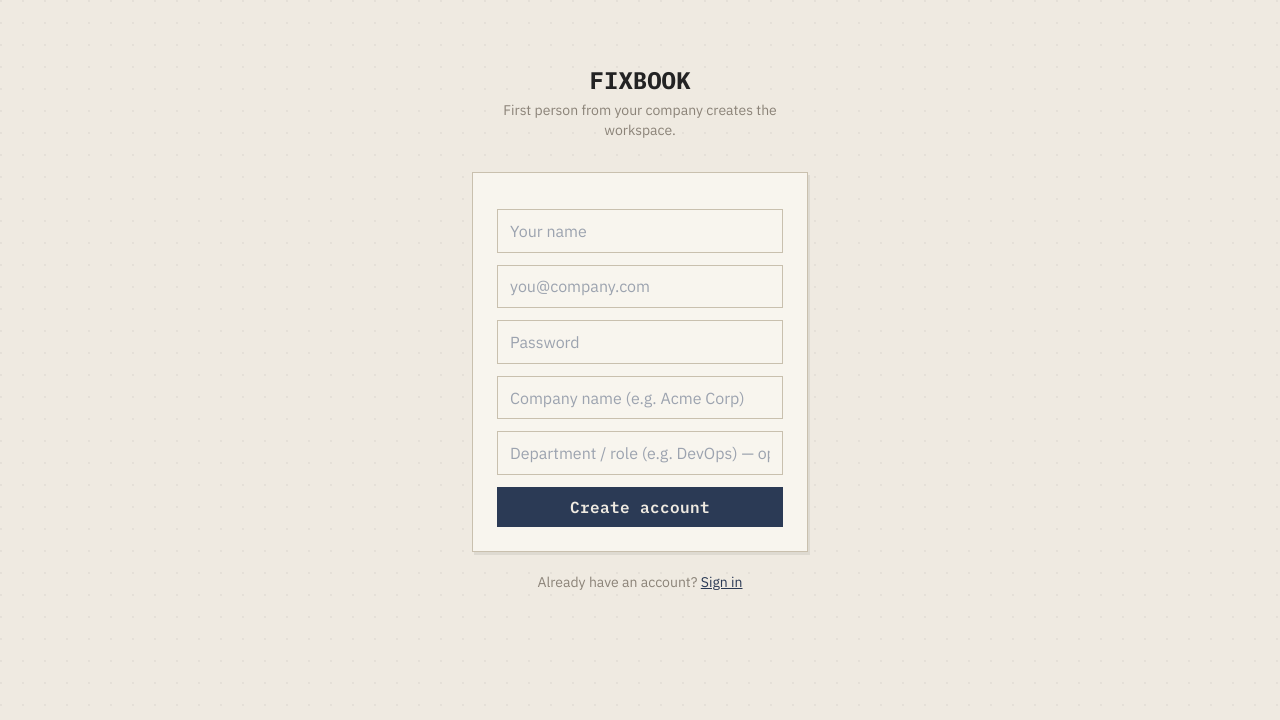
it: registration form › shows the registration error and stays on the form
The image size is (1280, 720).
Type "Test User" into the field labelled "Your name".
click(640, 231); type("Test User")  # box [497,209,783,253]
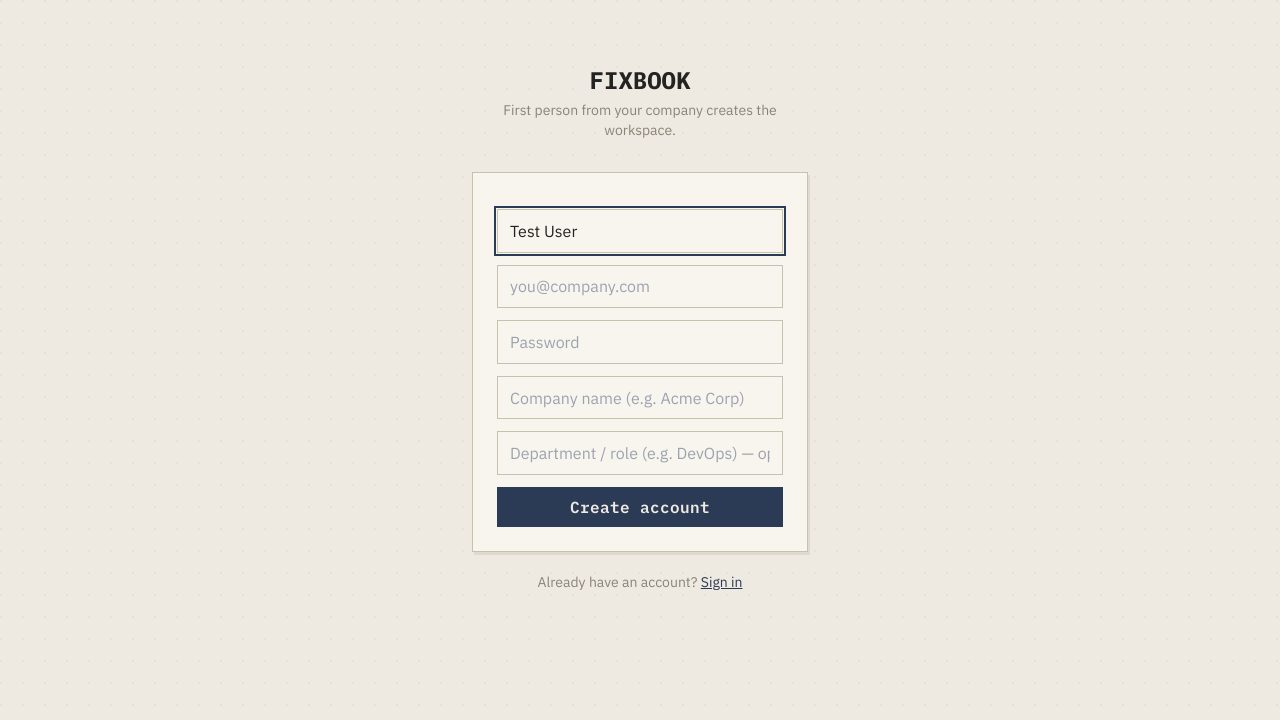
Type "dev@example.test" into the field named "Email address".
click(640, 286); type("dev@example.test")  # box [497,265,783,308]
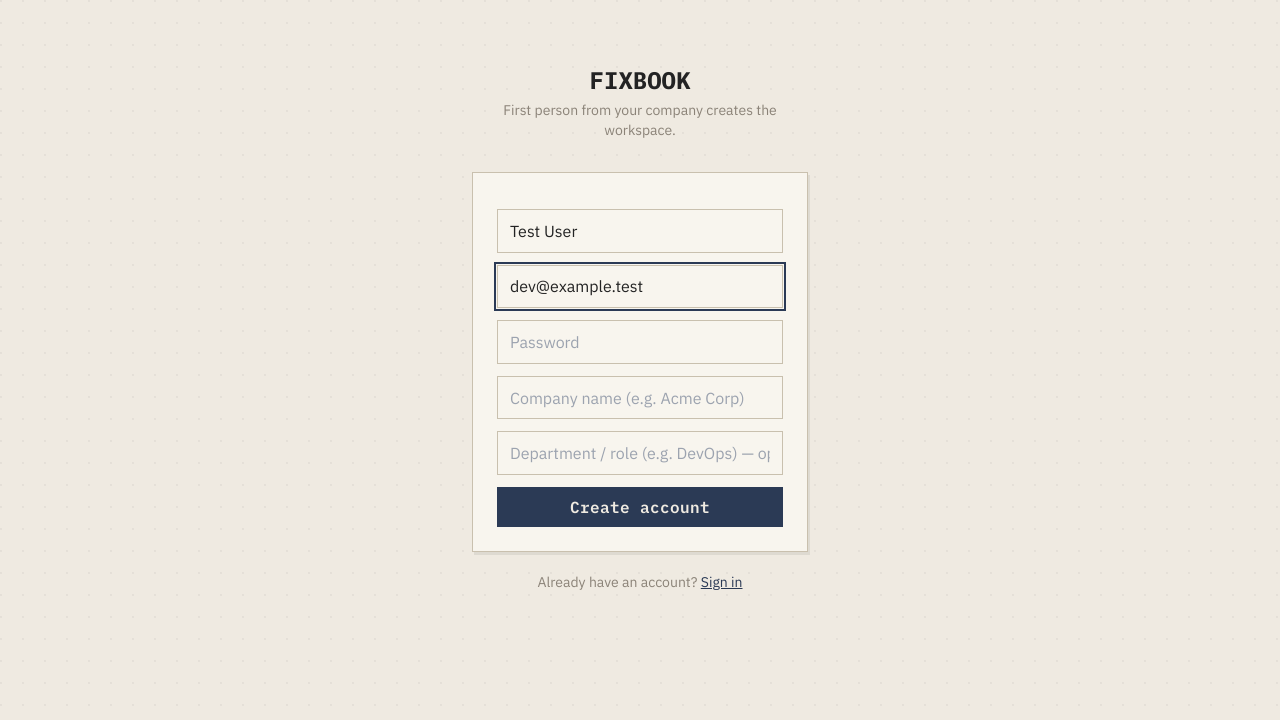
Type "fake-password" into the password field labelled "Password".
click(640, 342); type("fake-password")  # box [497,320,783,364]
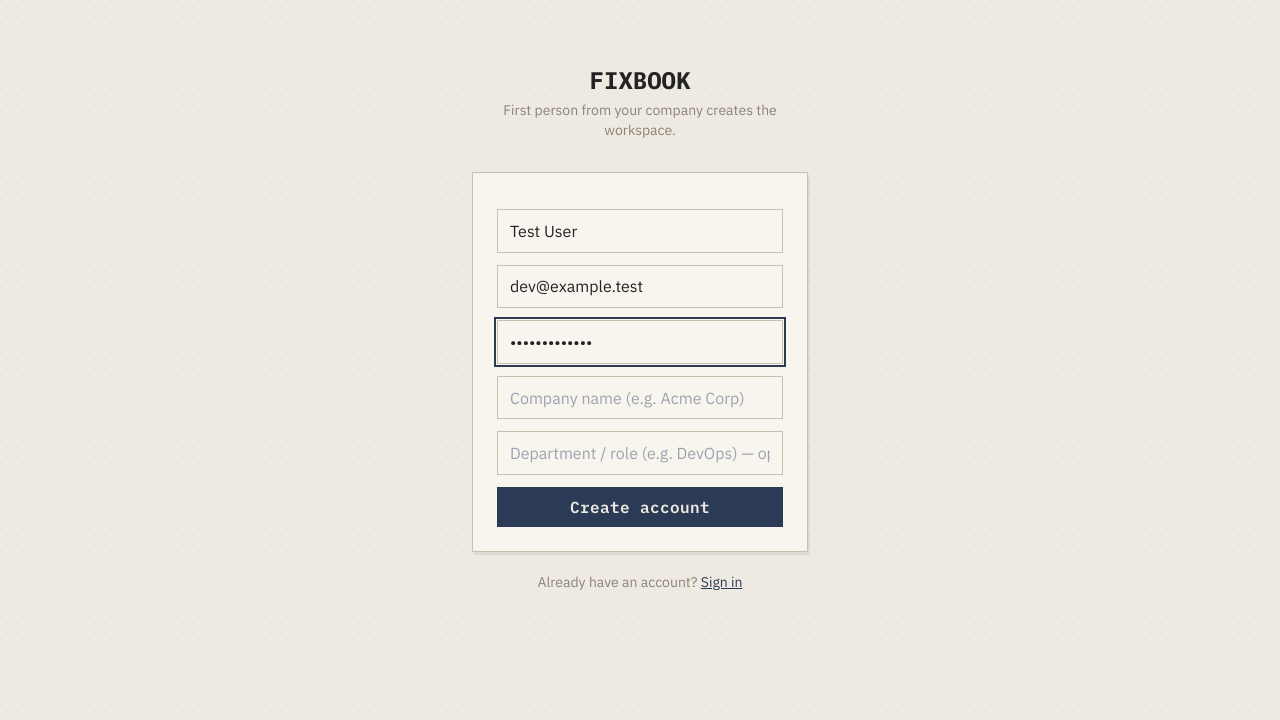
Type "Test Workspace" into the field labelled "Company name".
click(640, 398); type("Test Workspace")  # box [497,376,783,419]
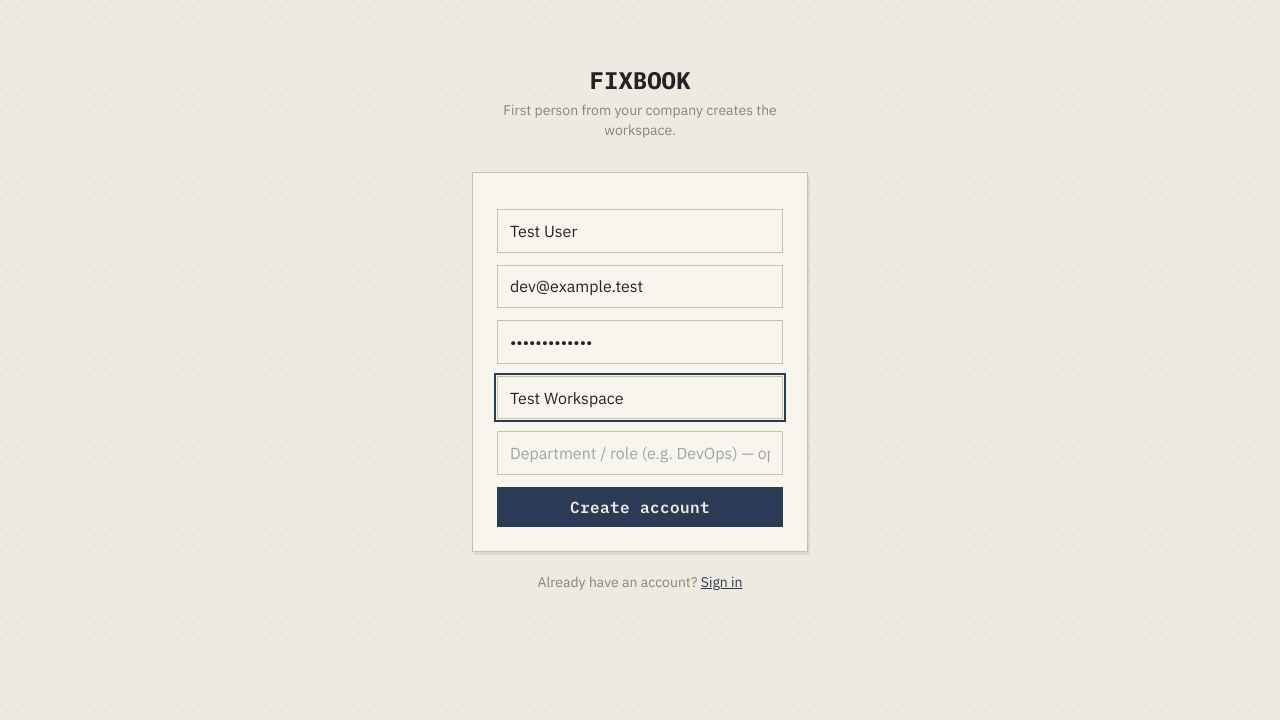
Click the button "Create account".
click(640, 507)  # box [497,487,783,527]
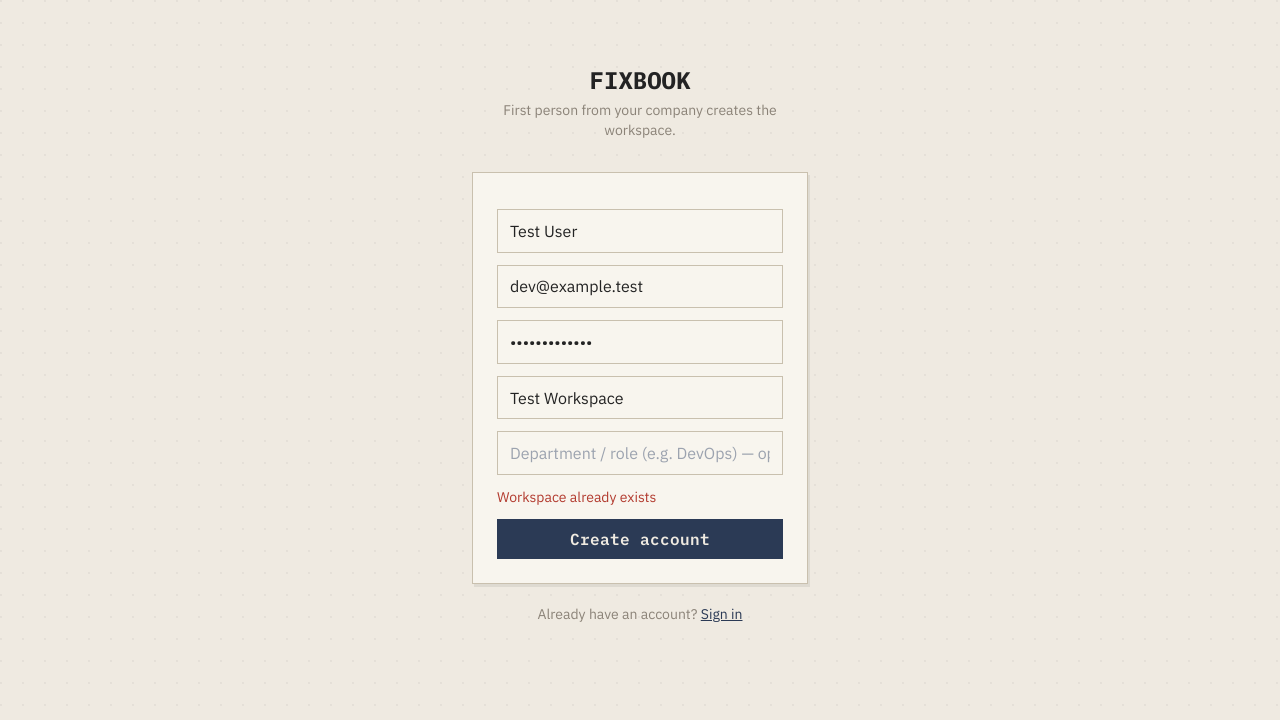
Check: the heading "FIXBOOK" is shown, box [590,64,690,96]
Check: the text "Workspace already exists" is shown, box [497,488,656,506]
